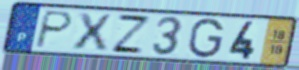3: (151, 16, 186, 58)
4: (227, 20, 257, 61)
G: (187, 17, 226, 60)
P: (32, 10, 75, 50)
X: (71, 11, 114, 52)
Z: (108, 13, 153, 56)
